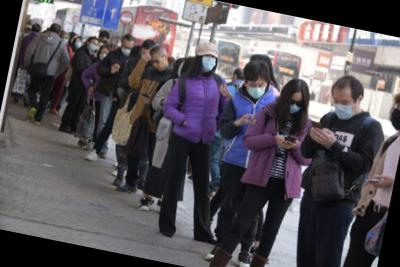with_mask: (329, 95, 358, 122), (245, 79, 267, 100), (285, 96, 306, 117), (200, 54, 218, 74), (389, 100, 400, 132), (120, 44, 133, 57), (88, 40, 99, 53), (98, 49, 108, 61), (73, 38, 83, 50), (59, 35, 70, 45)
without_mask: (149, 56, 166, 72)
